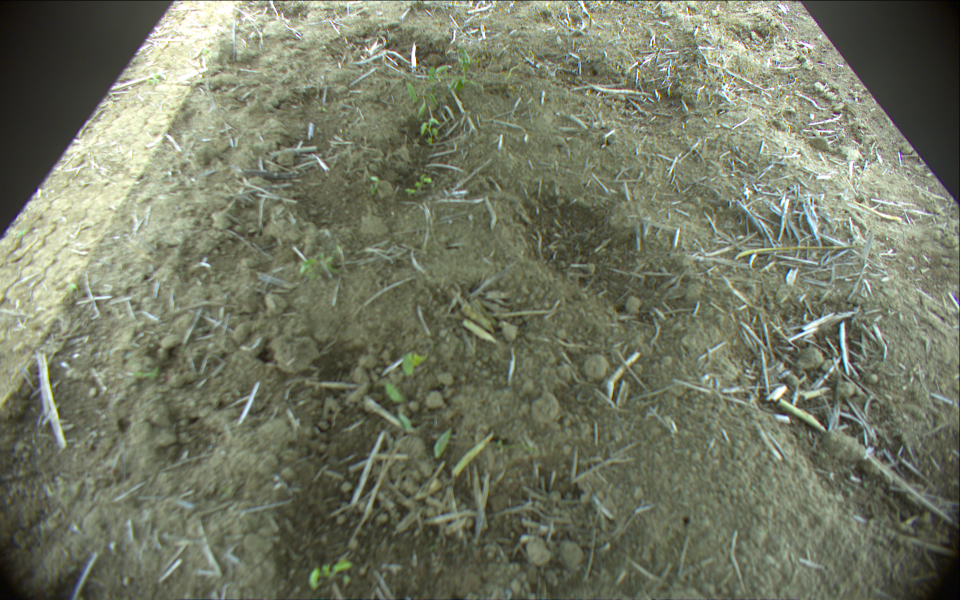aspa: (734, 245, 867, 263)
